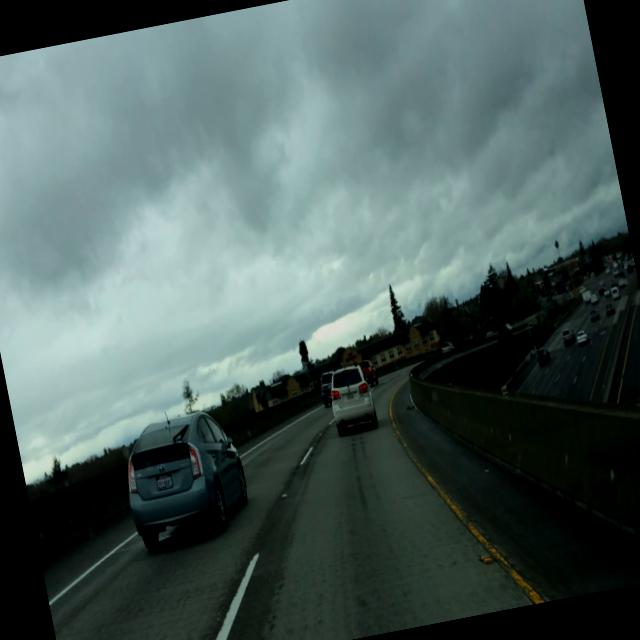Vehicle: (96, 382, 264, 566), (322, 360, 380, 440)
